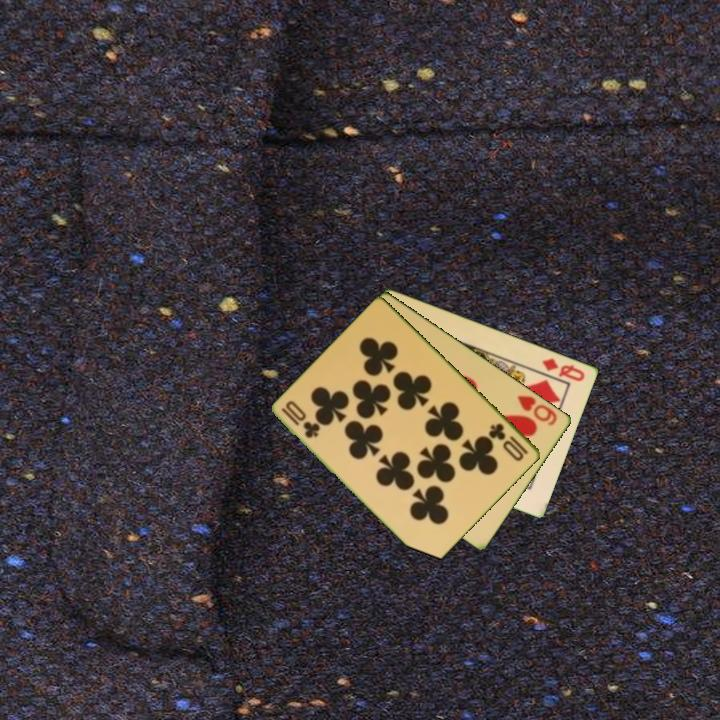10c: (485, 419, 532, 464), (278, 404, 323, 441)
6h: (514, 392, 561, 429)
Qd: (539, 354, 588, 384)
